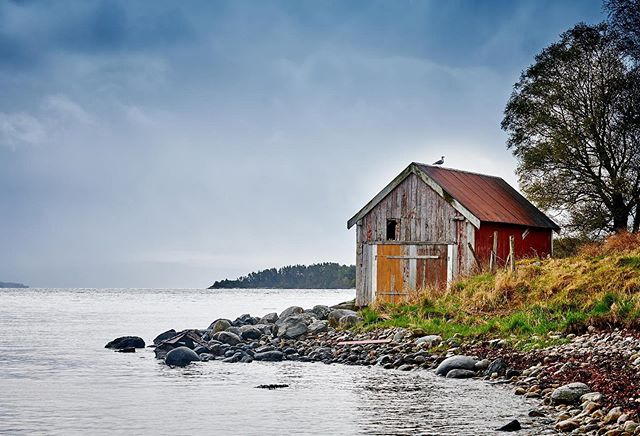building: (349, 168, 552, 312)
sea: (1, 291, 338, 436)
sky: (1, 1, 532, 254)
tree: (515, 18, 640, 224)
